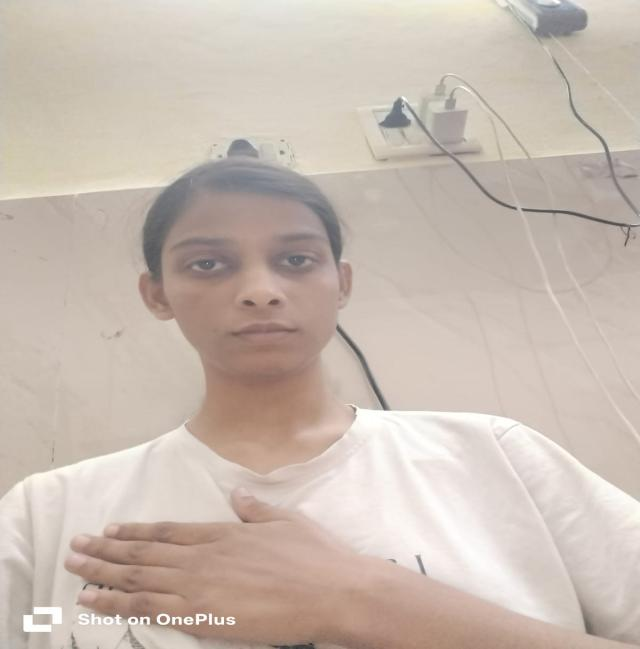Please: (45, 478, 382, 642)
